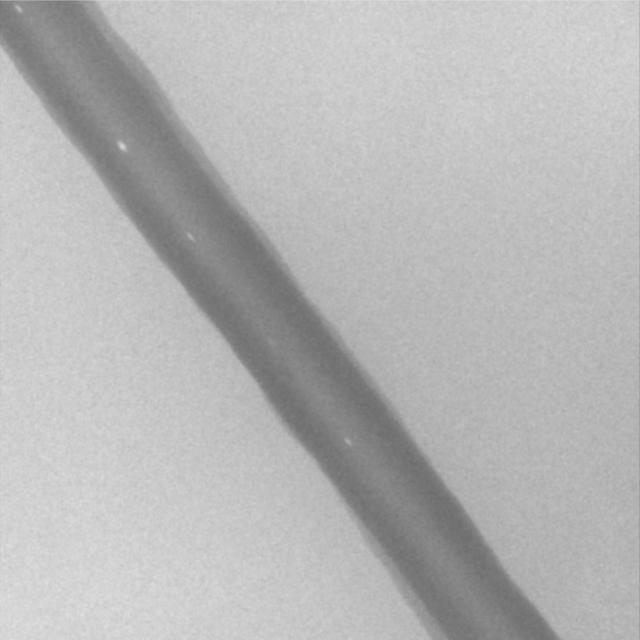air hole: (117, 141, 128, 153), (186, 231, 196, 243), (12, 4, 24, 13), (343, 436, 352, 447)
